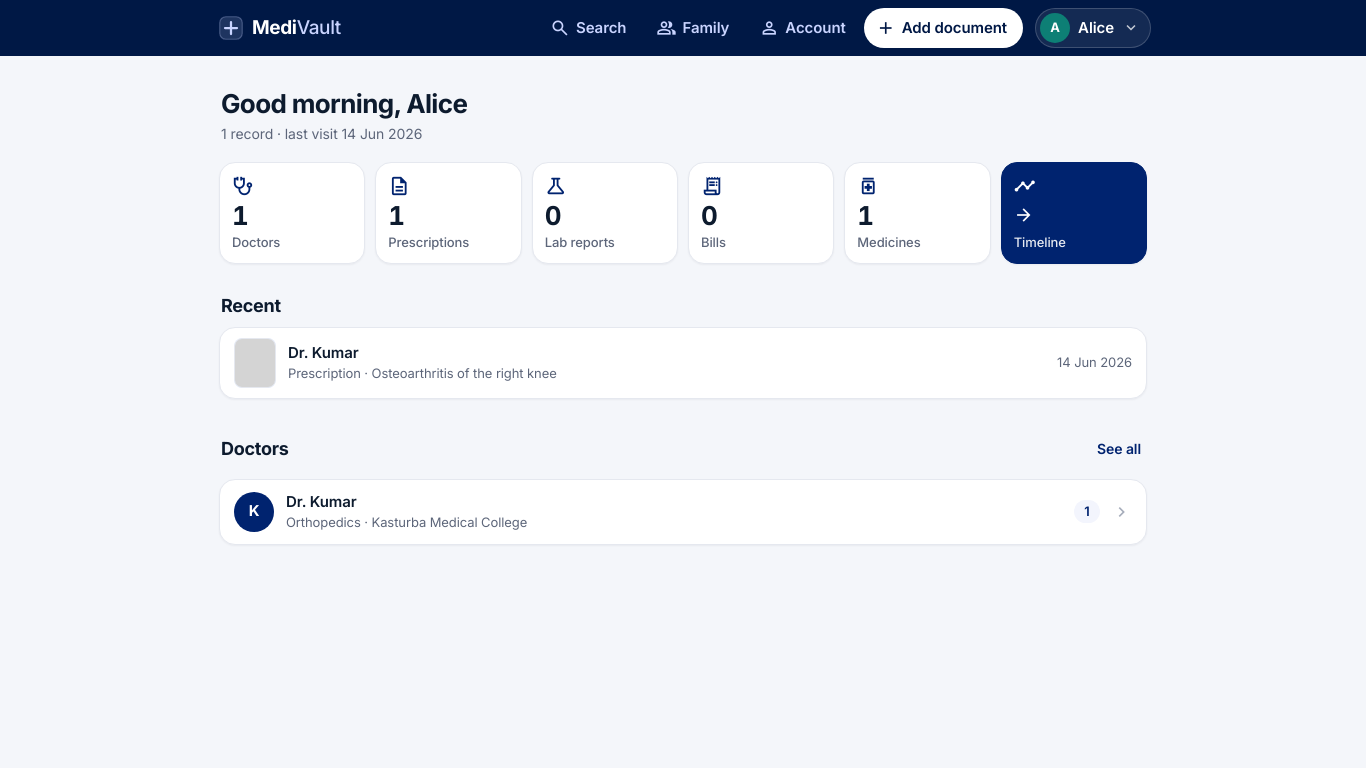
Test: a prescription lists its medicines; a bill does not
Click the button with aria-label "Prescription, Dr. Kumar, 14 Jun 2026": [255, 363] box [220,328,1146,398]
(page scrolled)
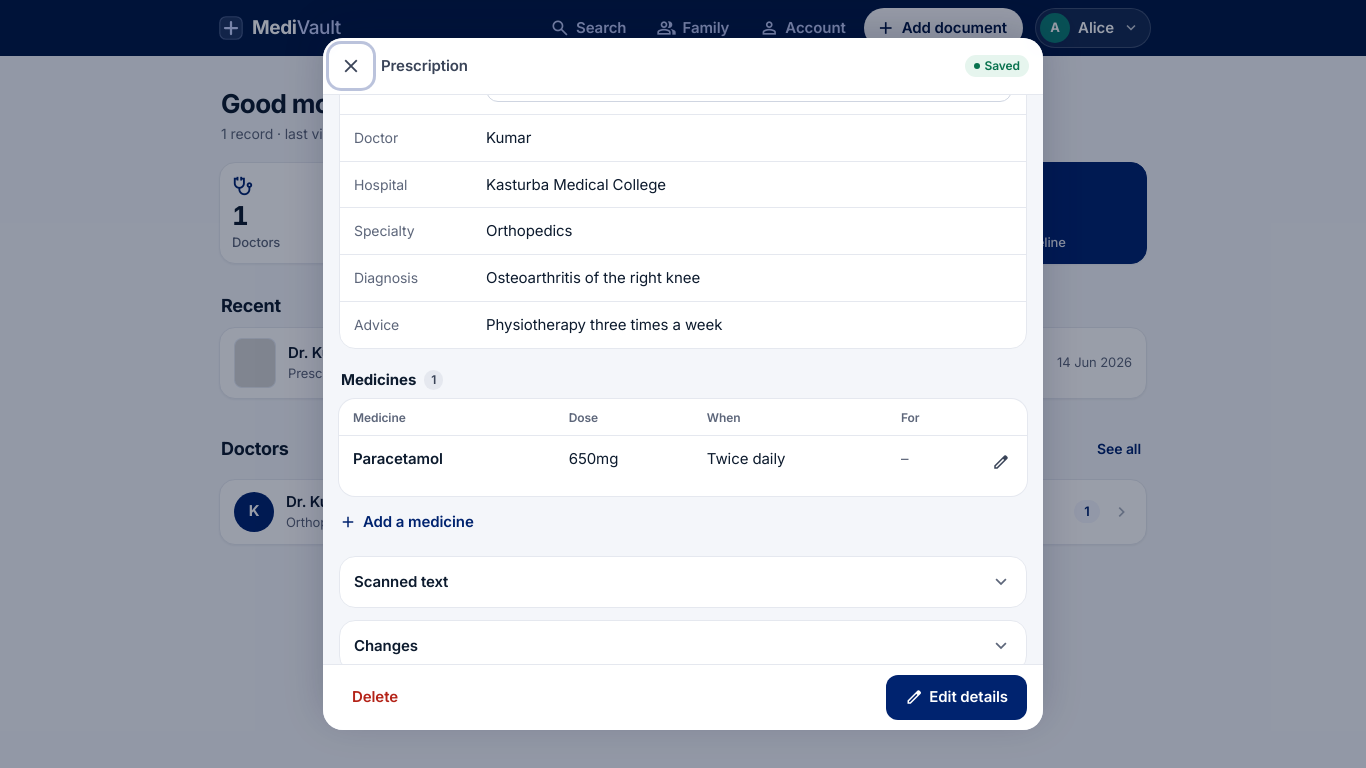
Expected: the heading "Medicines 1" is shown, [341,370,443,390]
